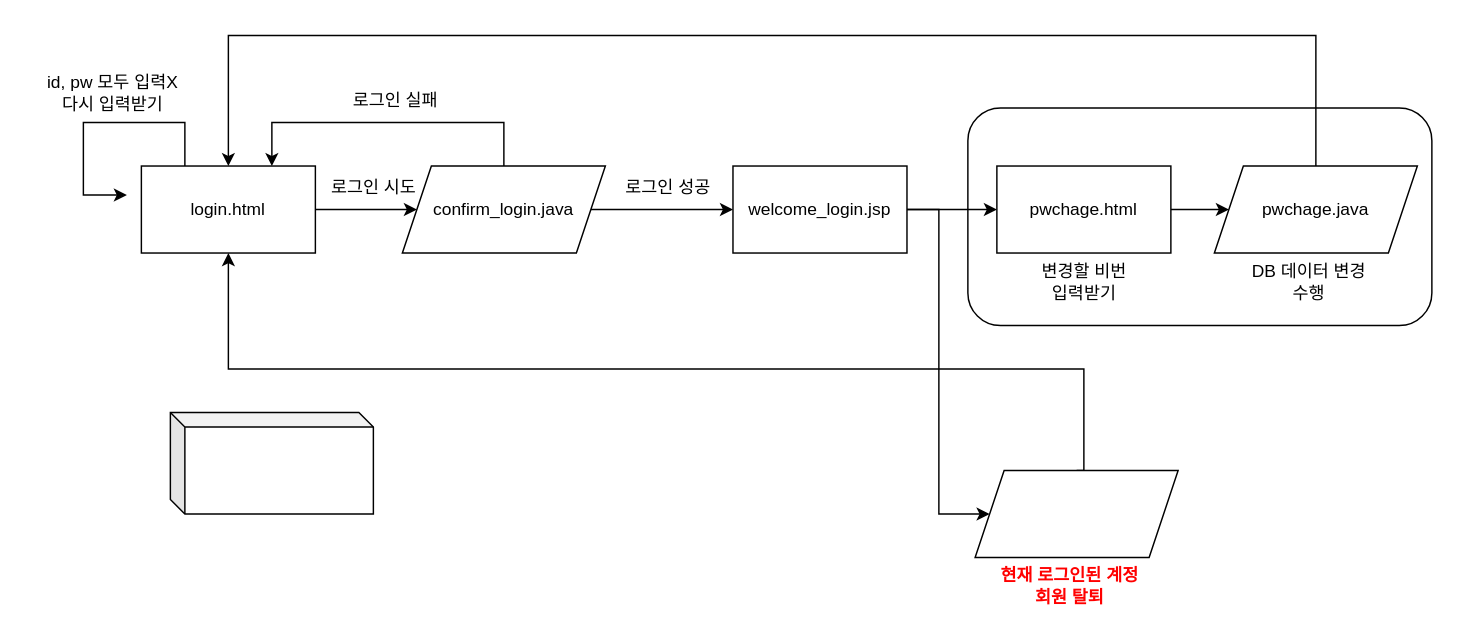
Image size: 1457x641. Some labels were removed from this diagram. Here are the shapes that lost their labels. From the top down, the box of each, then its label:
(169, 411, 373, 514): employeeDAO.java
(974, 469, 1178, 558): delete.java
